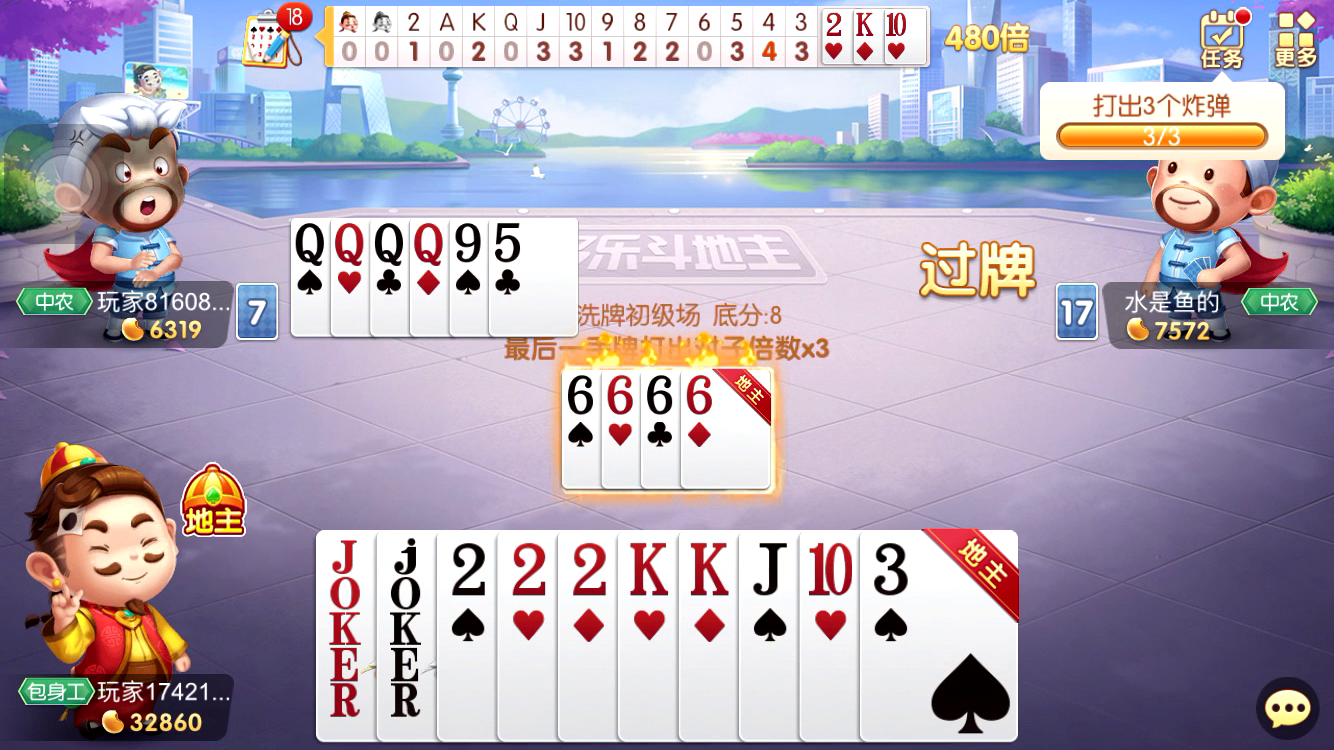J: (743, 535, 791, 605)
JOKER: (316, 532, 372, 655)
K: (684, 534, 736, 605), (622, 536, 676, 603), (852, 7, 878, 42)
Q: (291, 220, 328, 269), (410, 219, 446, 269), (371, 220, 407, 270), (331, 219, 367, 268)
five: (491, 219, 530, 269)
joker: (382, 534, 430, 653)
nine: (450, 222, 490, 272)
six: (682, 371, 725, 421), (561, 369, 600, 420), (642, 371, 679, 421), (602, 372, 639, 419)
ten: (801, 537, 857, 604), (883, 9, 913, 41)
three: (866, 538, 919, 605)
two: (442, 537, 494, 605), (563, 539, 615, 606), (503, 538, 555, 603), (820, 7, 848, 42)
